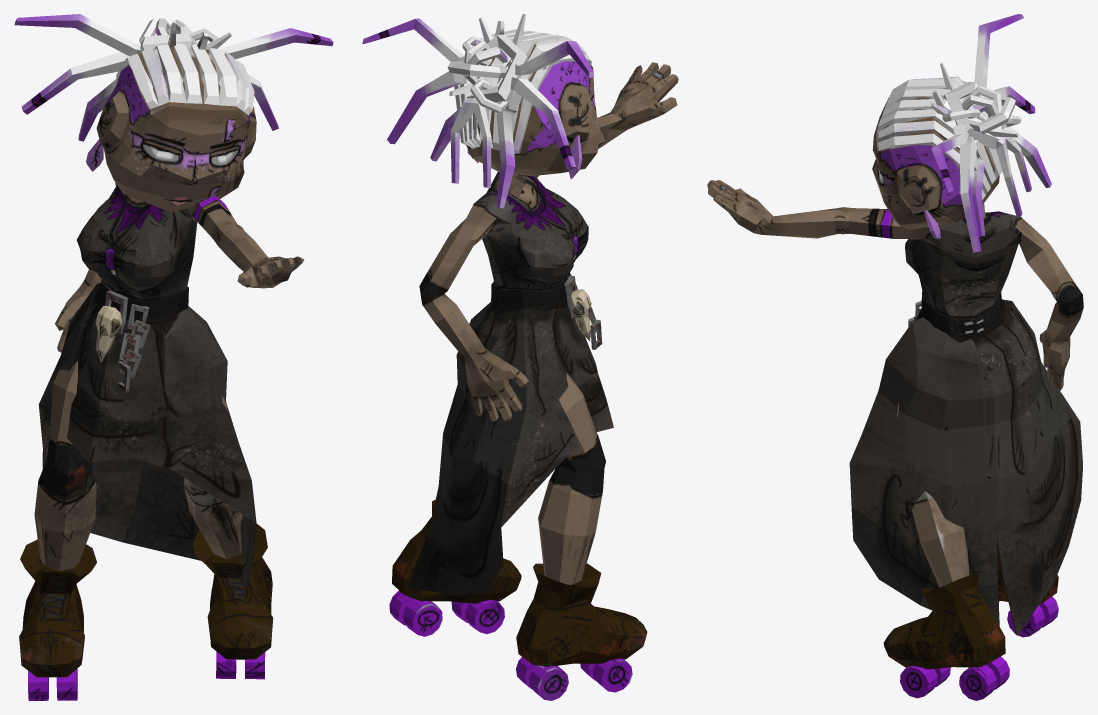
The model's file is bruja_000026.obj.
The picture shows the model from 3 angles, left to right: view 1: azimuth 30°, elevation 25°; view 2: azimuth 150°, elevation 25°; view 3: azimuth 270°, elevation 25°; orthographic projection. The views are drawn at different scales.
Visible parts, largest first — view 1: Bruja_Plane.001; view 2: Bruja_Plane.001; view 3: Bruja_Plane.001.
Part boxes in pixels (x1,y1,x2,y2): Bruja_Plane.001: (14,14,333,700); Bruja_Plane.001: (362,14,678,700); Bruja_Plane.001: (707,14,1083,700).
Bounding box in the file's own units: 7.74 × 16.37 × 9.17.
